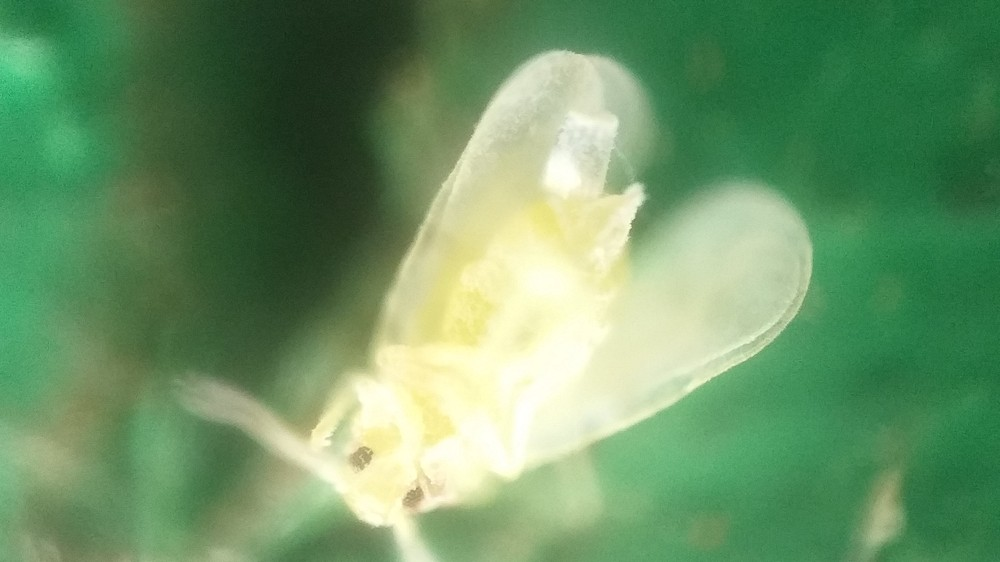Mosca Blanca: (178, 46, 820, 562)
